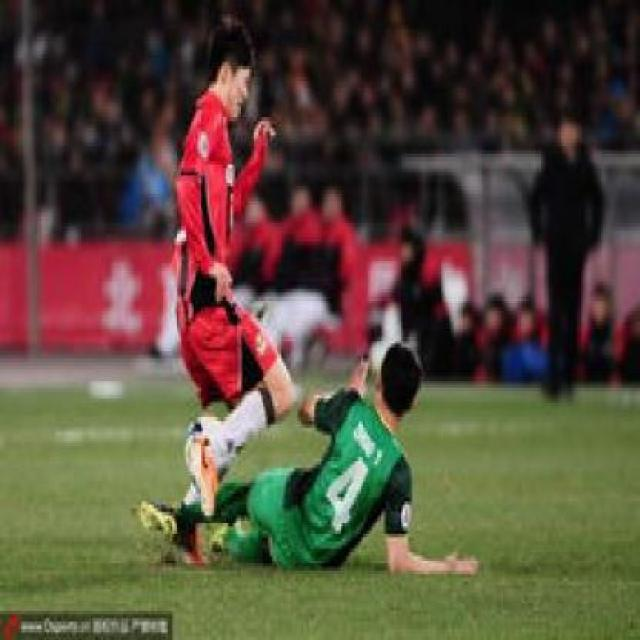fall: (126, 321, 457, 574)
